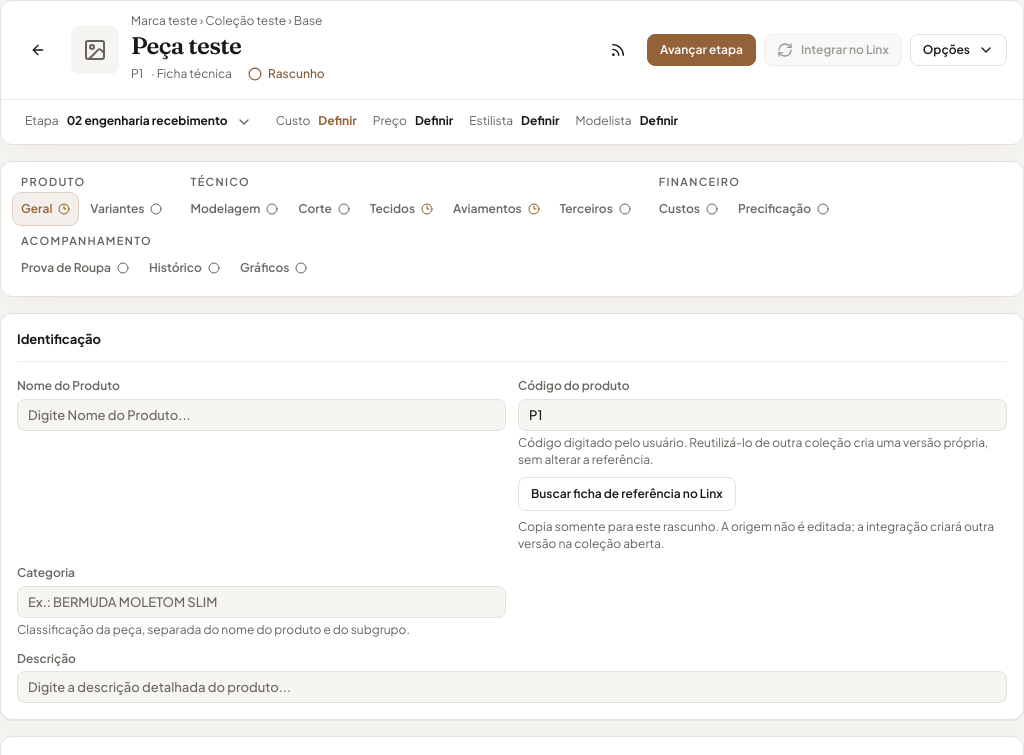
Scenario: Avanço sequencial da ficha › avança de 02 em diante a cada clique, sem repetir a conferência
Click the button "Avançar etapa" at [702, 50], box [647,34,756,66]
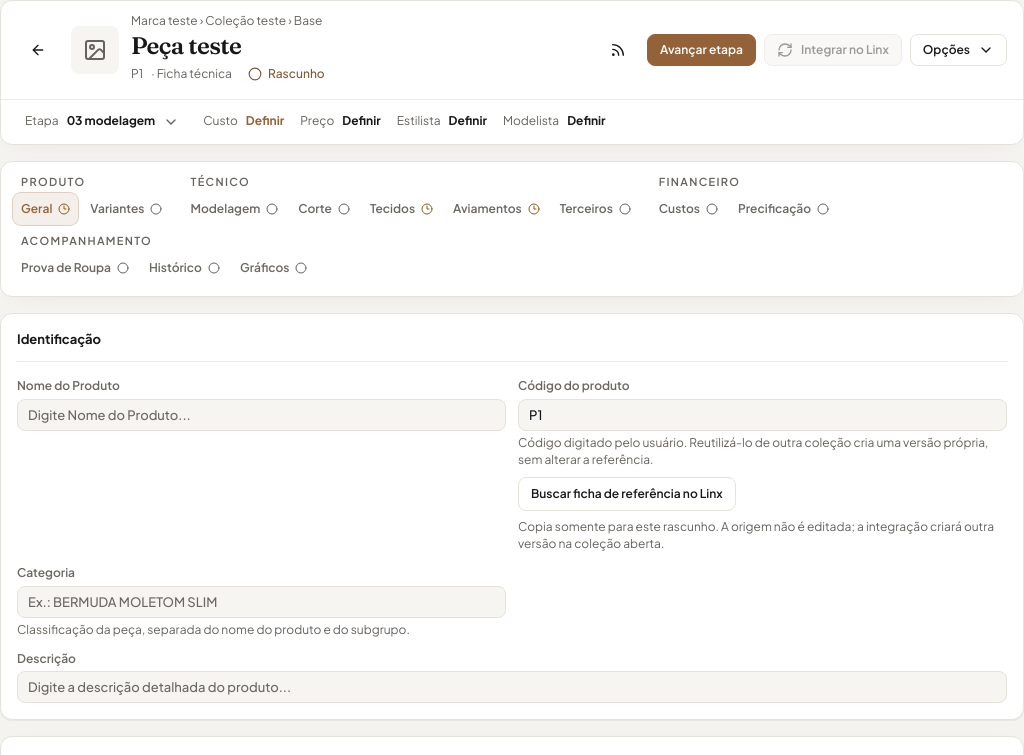
Expected: the text "03 modelagem" is shown, [67,113,155,130]
Click the button "Avançar etapa" at [702, 50], box [647,34,756,66]
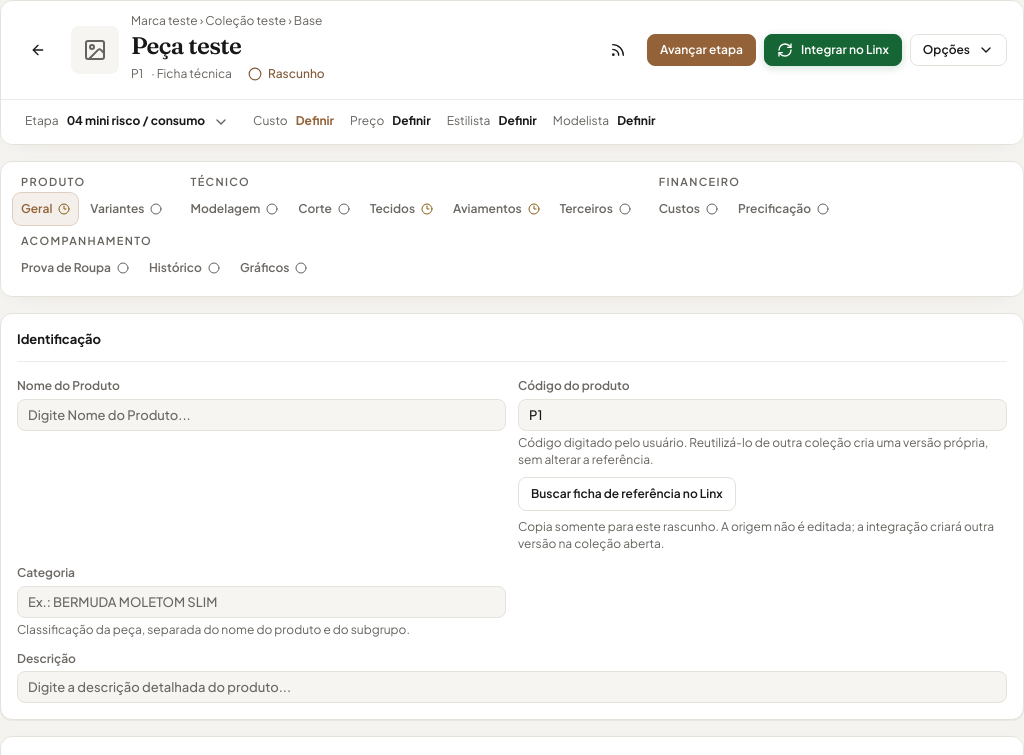
Expected: the text "04 mini risco / consumo" is shown, [67,113,205,130]
